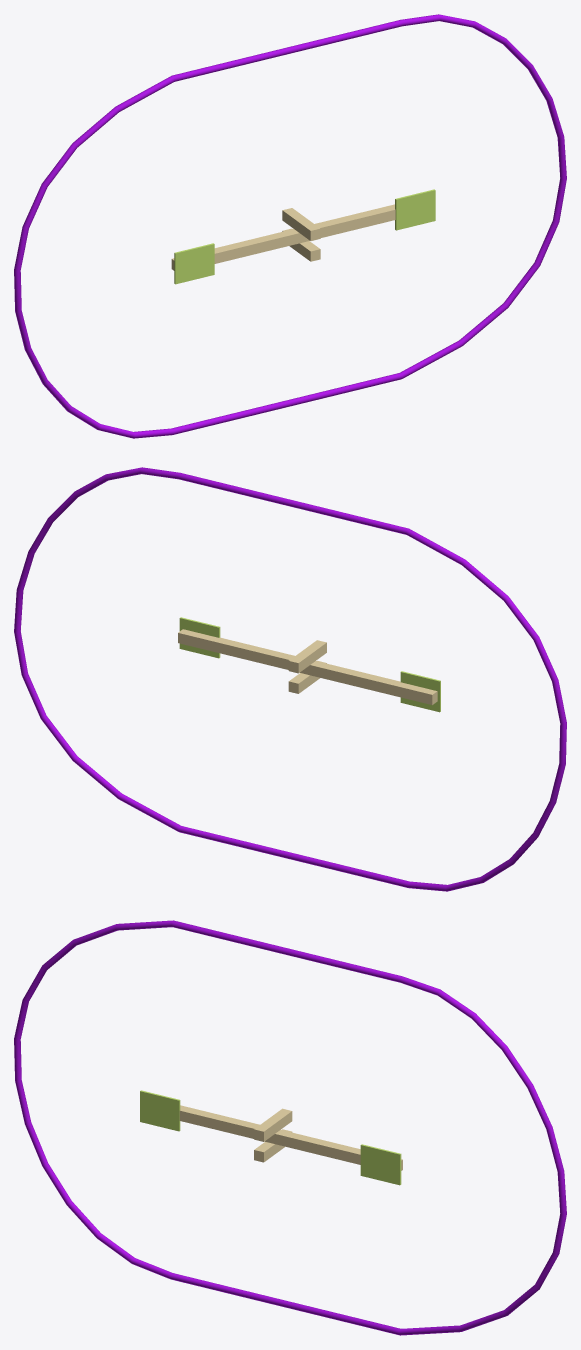
The model's file is leber-lgk-20.glb.
The picture shows the model from 3 angles, top to bottom: view 1: azimuth 30°, elevation 25°; view 2: azimuth 150°, elevation 25°; view 3: azimuth 330°, elevation 25°; orthographic projection.
Parts seen in each view (by area): view 1: _outline.005, Cube.035, Cube.038, Cube.039, Cube.037; view 2: _outline.005, Cube.035, Cube.038, Cube.039, Cube.037; view 3: _outline.005, Cube.035, Cube.039, Cube.038, Cube.037.
Part boxes in pixels (x1,y1,x2,y2): _outline.005: [14, 14, 566, 438]; Cube.035: [171, 204, 395, 270]; Cube.038: [174, 243, 214, 284]; Cube.039: [395, 189, 435, 230]; Cube.037: [282, 208, 320, 240]; _outline.005: [14, 467, 566, 891]; Cube.035: [178, 629, 437, 704]; Cube.038: [400, 671, 440, 712]; Cube.039: [179, 617, 220, 658]; Cube.037: [288, 640, 326, 673]; _outline.005: [14, 920, 566, 1335]; Cube.035: [179, 1105, 402, 1170]; Cube.039: [360, 1144, 401, 1185]; Cube.038: [140, 1090, 180, 1131]; Cube.037: [254, 1108, 292, 1141].
Bounding box in the file's own units: 5.62 × 3.49 × 0.53.
